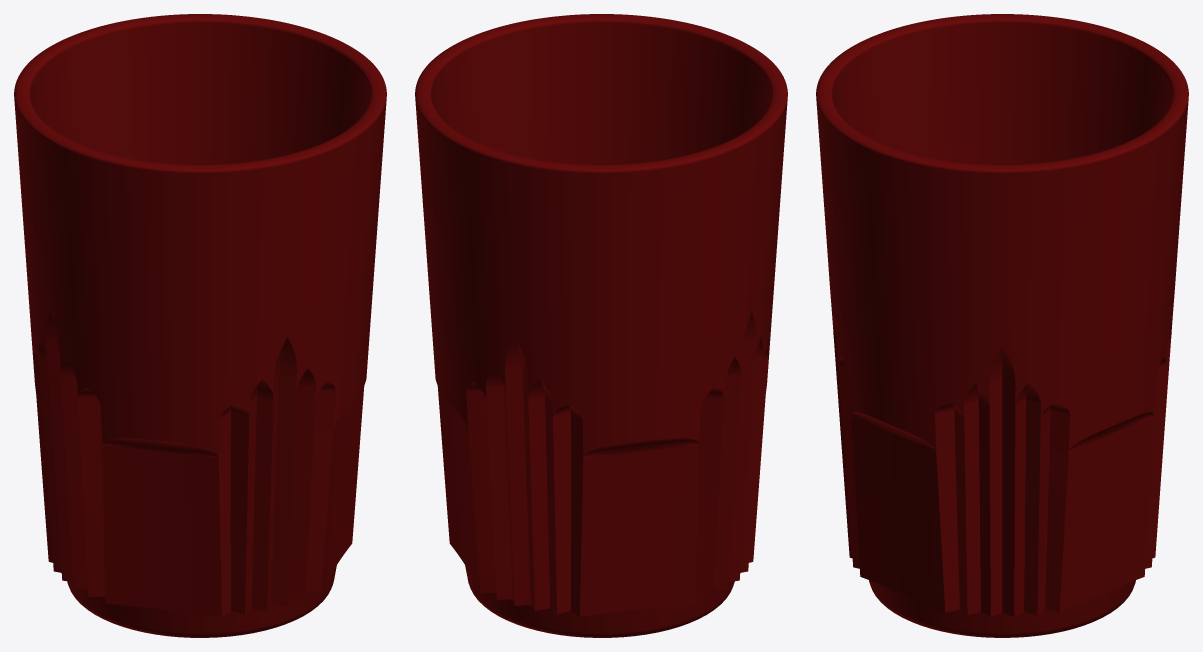
3 views of the same model, side by side, from view 1: azimuth 30°, elevation 25°; view 2: azimuth 150°, elevation 25°; view 3: azimuth 270°, elevation 25° (orthographic).
Bounding box in the file's own units: 0.062 × 0.0907 × 0.062.
